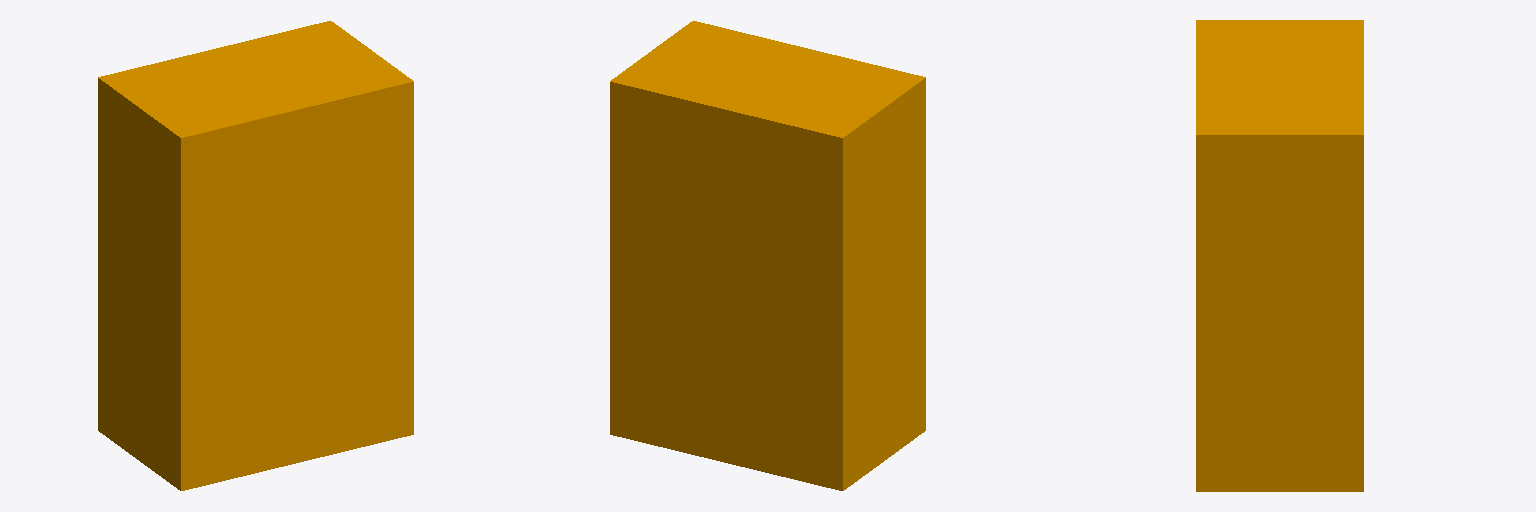
URDF robot description (kraeuter):
<?xml version="1.0" ?> 
<robot name="kraeuter">
  <link name="base_link">
  <inertial>
    <mass value="1.0" />
    <origin xyz="0 0 0.0" />
    <inertia  ixx="1.0" ixy="0.0"  ixz="0.0"  iyy="1.0"  iyz="0.0"  izz="1.0" />
  </inertial>
  <visual>
   <origin xyz="0 0 0.0" rpy="0 0 0" />
   <geometry>
     <mesh filename="package://cob_gazebo_worlds/Media/models/kraeuter.dae"/>
   </geometry>
  </visual>
  <collision>
   <origin xyz="0 0 0.055" rpy="0 0 0" />
   <geometry>
     <box size="0.076 0.047 0.11" />
     <!--mesh filename="package://cob_gazebo_worlds/Media/models/kraeuter.dae"/-->>
   </geometry>
  </collision>     
  </link>
</robot>

--- Render facts (derived) ---
3 views of the same robot in one strip: view 1: azimuth 30°, elevation 25°; view 2: azimuth 150°, elevation 25°; view 3: azimuth 270°, elevation 25° (orthographic).
Model kraeuter with 1 links and 0 joints (none), rooted at base_link, posed every joint at zero.
Visible links, largest first — view 1: base_link; view 2: base_link; view 3: base_link.
Boxes of the visible links, bbox=[...] form: base_link: bbox=[98, 21, 413, 490]; base_link: bbox=[610, 21, 925, 490]; base_link: bbox=[1196, 20, 1363, 491].
Size in the robot's own frame: 0.0008 by 0.0005 by 0.0011 metres.
Meshes: 1 distinct files referenced, 1 mesh visuals loaded (1 Collada DAE).
